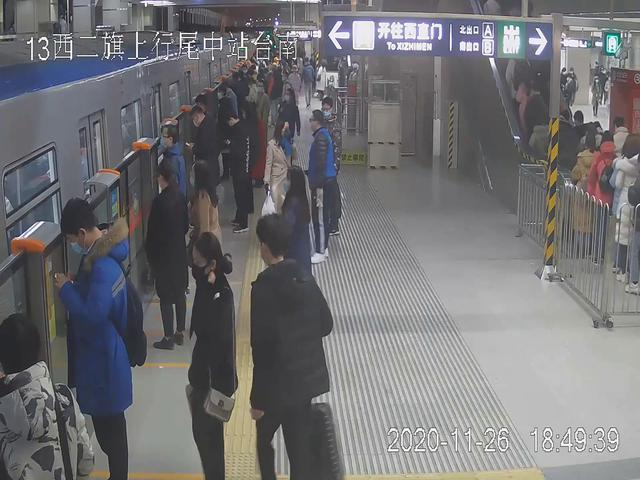person: (58, 197, 146, 480), (250, 212, 331, 480), (1, 305, 90, 480), (182, 231, 243, 480), (185, 152, 225, 350), (149, 161, 187, 352), (260, 113, 300, 250), (159, 120, 189, 291), (188, 106, 226, 237), (222, 111, 257, 236), (310, 107, 337, 267), (318, 97, 349, 231)
